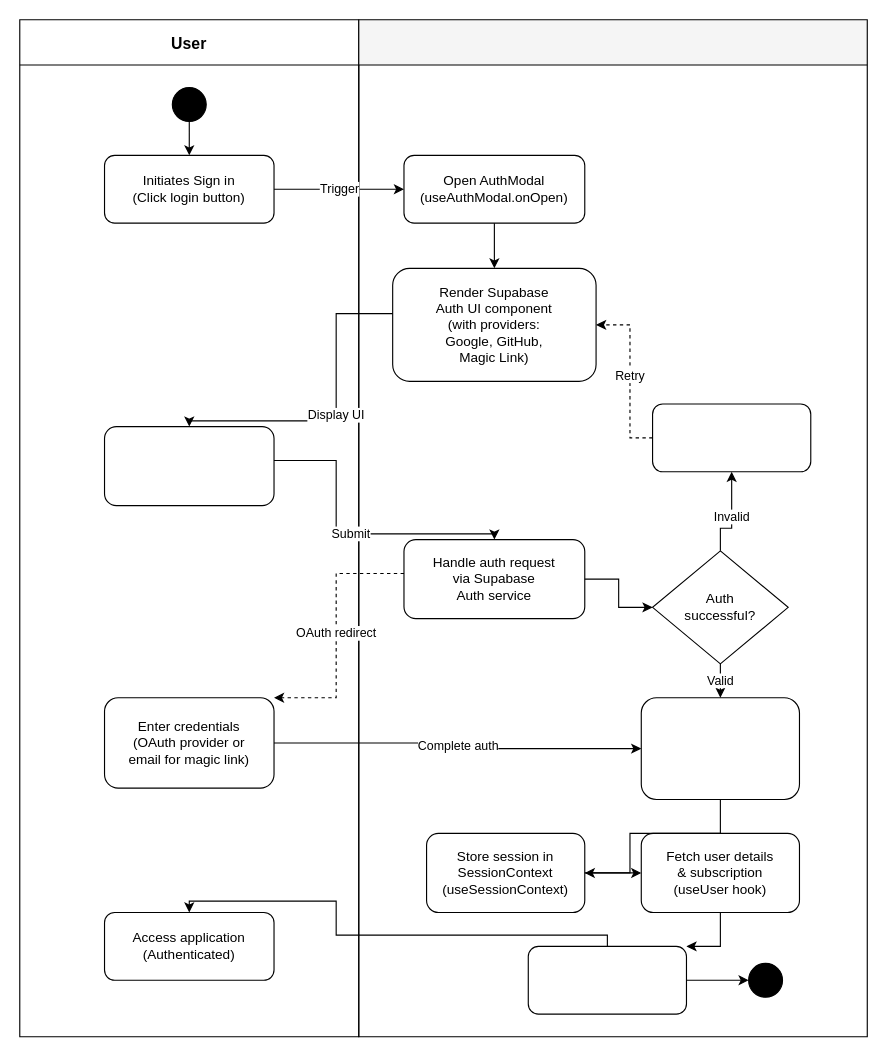
Image size: 887x1057. Some labels were removed from this diagram. Each missing label, with the box of its shape:
Close AuthModal & refresh router (redirect to app): (527, 945, 686, 1014)
Display auth error (Show error in UI): (651, 403, 811, 472)
Music Stream Service (System): (358, 19, 867, 1037)
Obtain Supabase Session Token (access_token & refresh_token): (640, 697, 799, 799)
Select auth method (Google/GitHub/ Magic Link): (103, 425, 274, 506)
